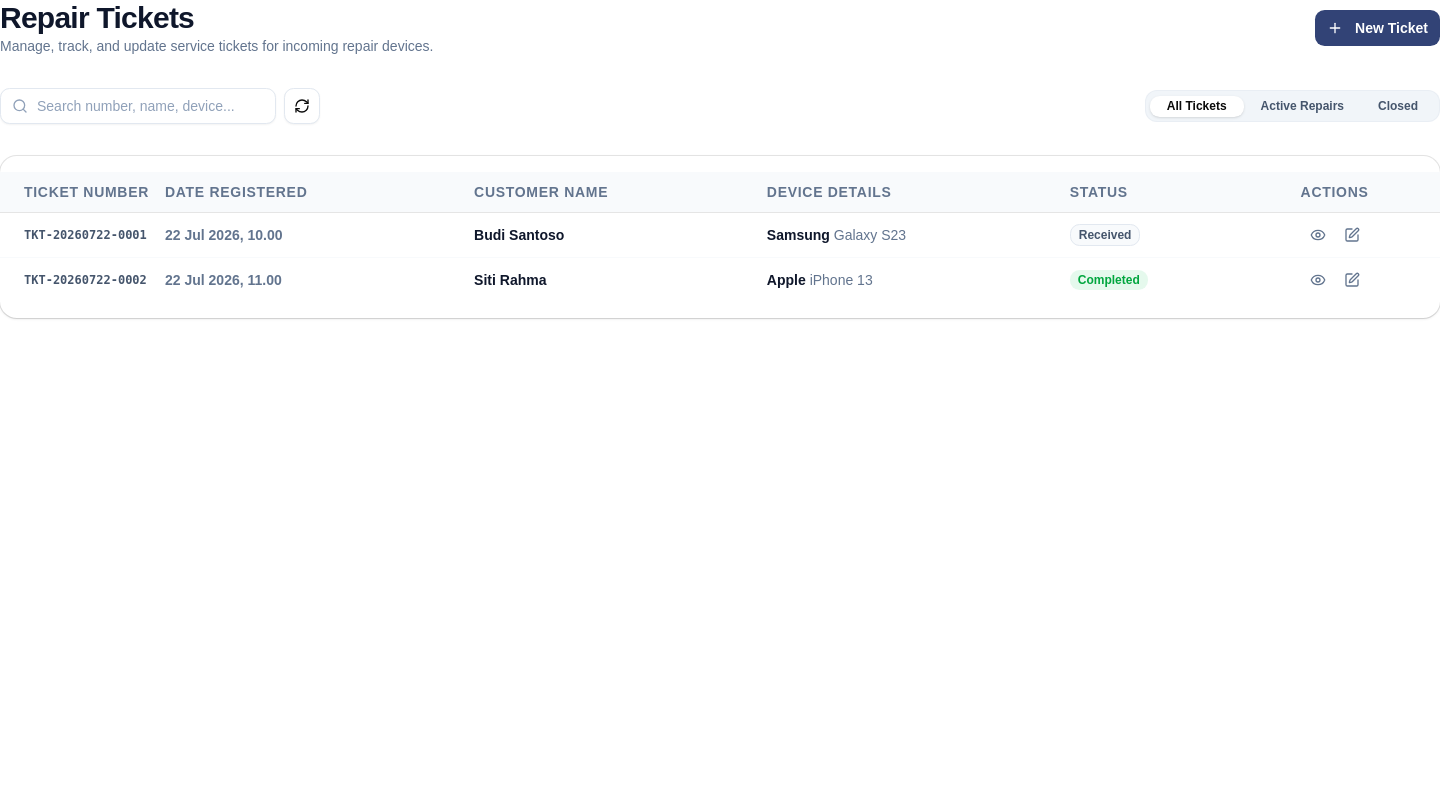
Test: TicketsPage › opens view details dialog when Eye button is clicked
Expected: the text "TKT-20260722-0001" is shown, [0,212,157,257]
Step 1. Click the button titled "View details" in the row of "TKT-20260722-0001" → point(1318, 234), box [1304,220,1332,248]
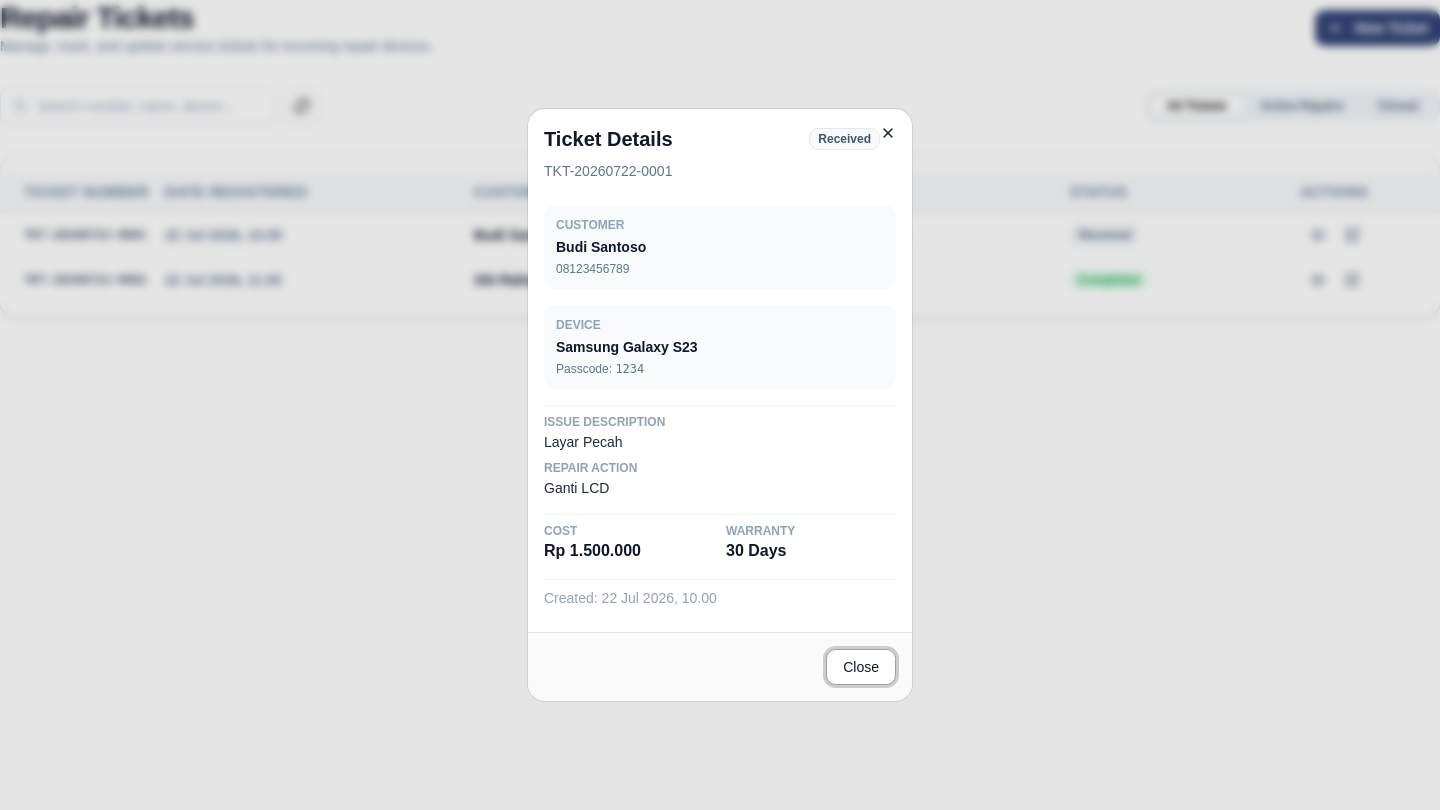
Result: the text "Ticket Details" is shown at [544,125,673,153]
Result: the text "Layar Pecah" is shown at [544,434,623,450]
Result: the text "Ganti LCD" is shown at [544,480,609,496]
